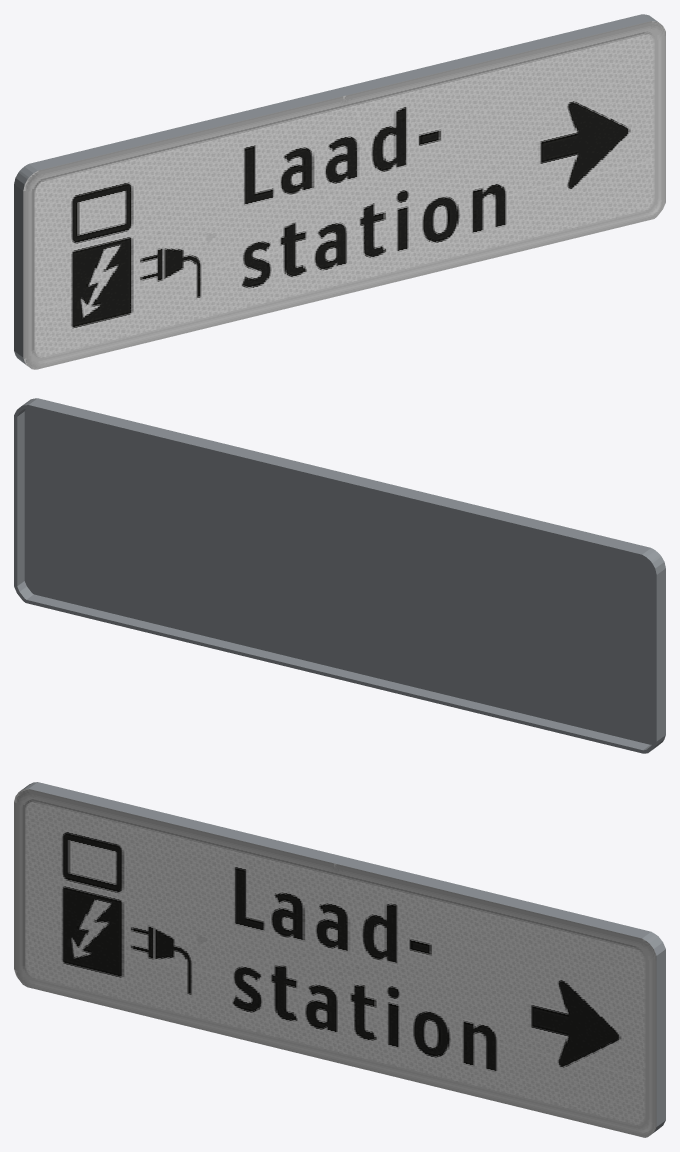
3 renders of one model, top to bottom at view 1: azimuth 30°, elevation 25°; view 2: azimuth 150°, elevation 25°; view 3: azimuth 330°, elevation 25°, orthographic.
Parts seen in each view (by area): view 1: cat_ba7a6dcbd6735821; view 2: cat_ba7a6dcbd6735821; view 3: cat_ba7a6dcbd6735821.
Boxes of the visible parts, left/top/right/bottom form: cat_ba7a6dcbd6735821: left=14, top=14, right=665, bottom=369; cat_ba7a6dcbd6735821: left=14, top=398, right=665, bottom=753; cat_ba7a6dcbd6735821: left=14, top=782, right=665, bottom=1137.
Bounding box in the file's own units: 0.6 × 0.015 × 0.1773.
2 materials, 1 textured.
